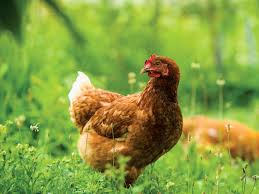chicken: (61, 49, 203, 189)
